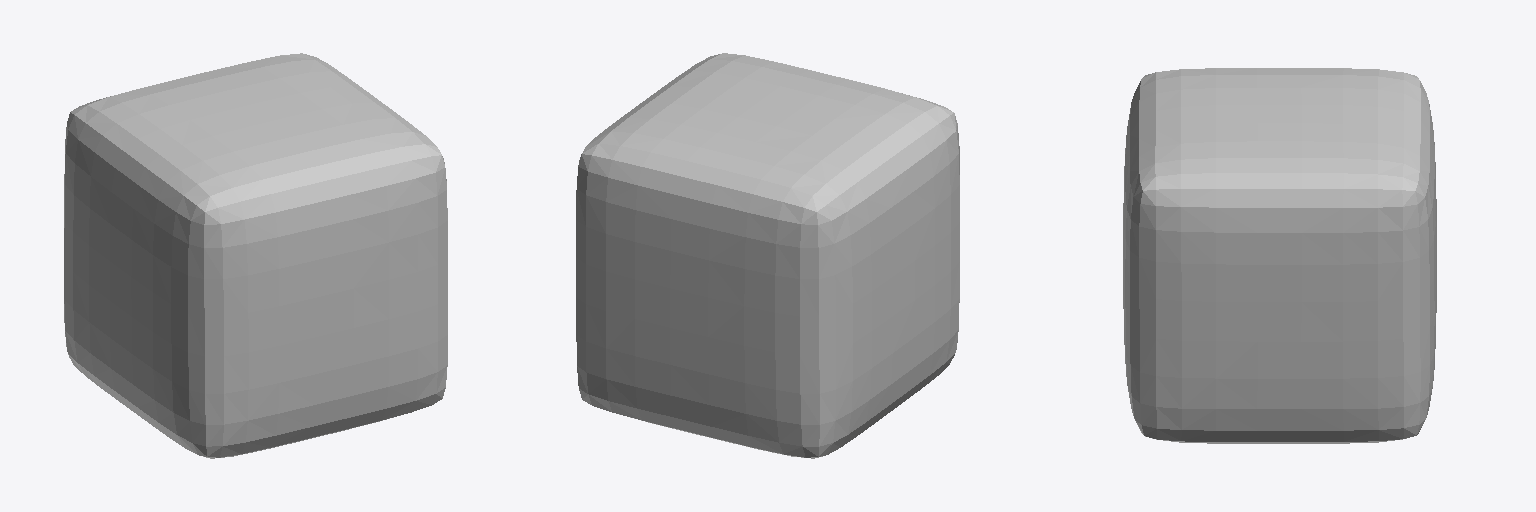
File: RoundedCube.OBJ
3 renders of one model, left to right at view 1: azimuth 30°, elevation 25°; view 2: azimuth 150°, elevation 25°; view 3: azimuth 270°, elevation 25°, orthographic.
Visible parts, largest first — view 1: Group40093; view 2: Group40093; view 3: Group40093.
Boxes of the visible parts, box(x1,y1,x2,y2) form: Group40093: box(64, 53, 447, 458); Group40093: box(576, 53, 959, 458); Group40093: box(1123, 68, 1436, 443).
Bounding box in the file's own units: 1.11 × 1.11 × 1.11.